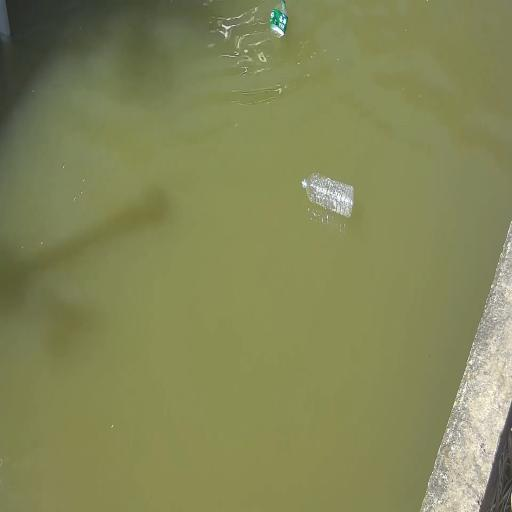plastic: (300, 172, 356, 220), (269, 0, 289, 39)
